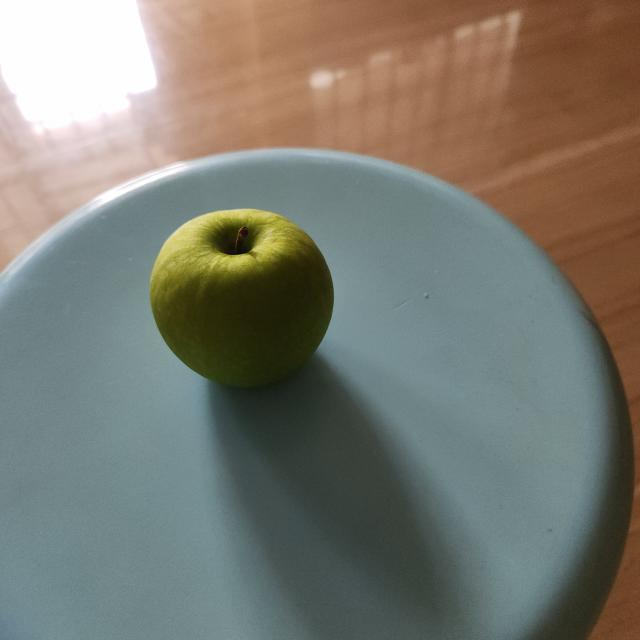apple: (148, 203, 338, 402)
